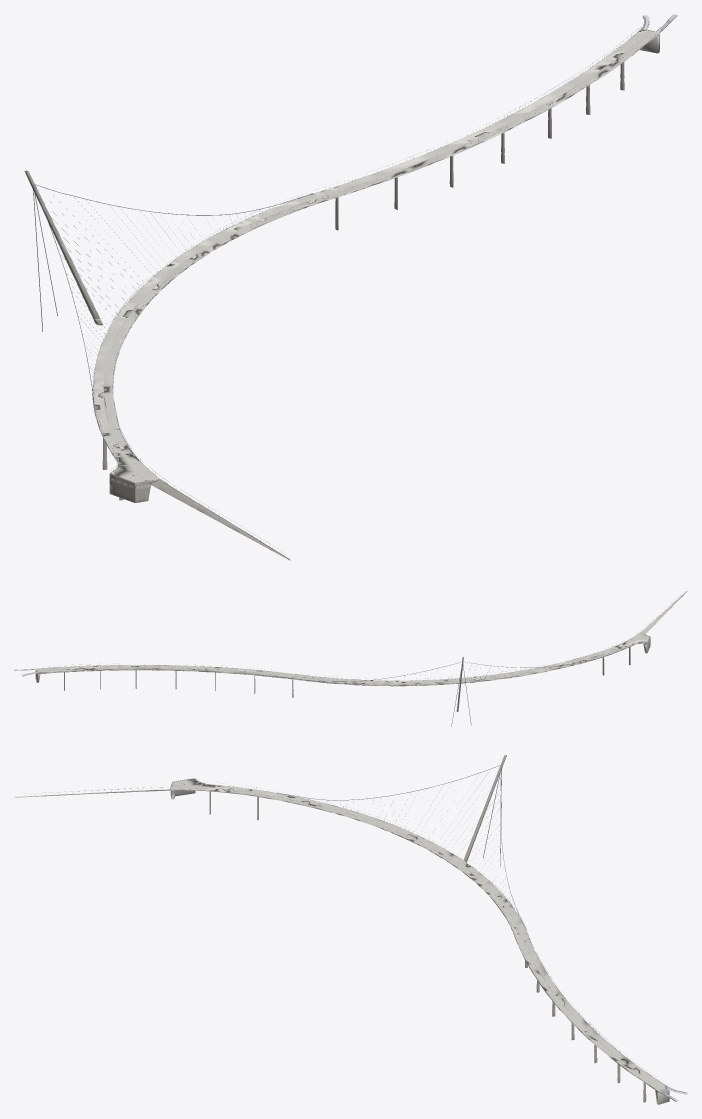
The picture shows the model from 3 angles, top to bottom: view 1: azimuth 30°, elevation 25°; view 2: azimuth 150°, elevation 25°; view 3: azimuth 270°, elevation 25°; orthographic projection. The views are drawn at different scales.
Visible parts, largest first — view 1: s1, s4, s3, s7, s5; view 2: s1, s4, s7, s5, s3; view 3: s1, s4, s7, s5.
Boxes of the visible parts, box(x1,y1,x2,y2) form: s1: box(92, 29, 659, 560); s4: box(24, 62, 624, 500); s3: box(93, 29, 659, 560); s7: box(93, 14, 677, 555); s5: box(33, 184, 312, 417); s1: box(36, 591, 686, 686); s4: box(64, 647, 630, 709); s7: box(14, 591, 684, 684); s5: box(305, 658, 594, 726); s3: box(35, 591, 687, 711); s1: box(14, 778, 668, 1091); s4: box(209, 755, 646, 1102); s7: box(23, 777, 687, 1101); s5: box(277, 765, 526, 929).
Bounding box in the file's own units: 6.32 × 1.07 × 5.83.
